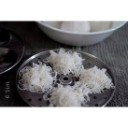idiyappam: (21, 64, 55, 94), (49, 49, 83, 77), (77, 68, 117, 91), (52, 81, 83, 108)
